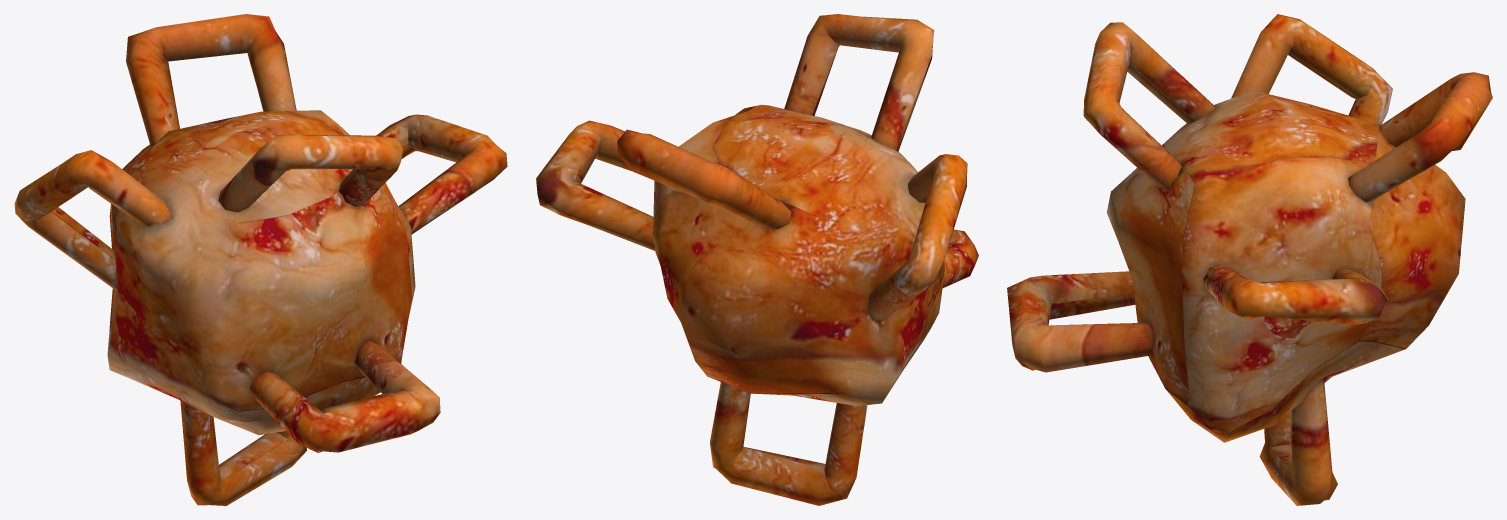
The model's file is fatBall.fbx.
The picture shows the model from 3 angles, left to right: view 1: azimuth 30°, elevation 25°; view 2: azimuth 150°, elevation 25°; view 3: azimuth 270°, elevation 25°; orthographic projection. The views are drawn at different scales.
Parts seen in each view (by area): view 1: FatBall; view 2: FatBall; view 3: FatBall.
Boxes of the visible parts, x1=… form: FatBall: x1=14, y1=14, x2=507, y2=505; FatBall: x1=536, y1=14, x2=978, y2=505; FatBall: x1=1007, y1=14, x2=1492, y2=505.
Bounding box in the file's own units: 9.72 × 9.24 × 9.18.
